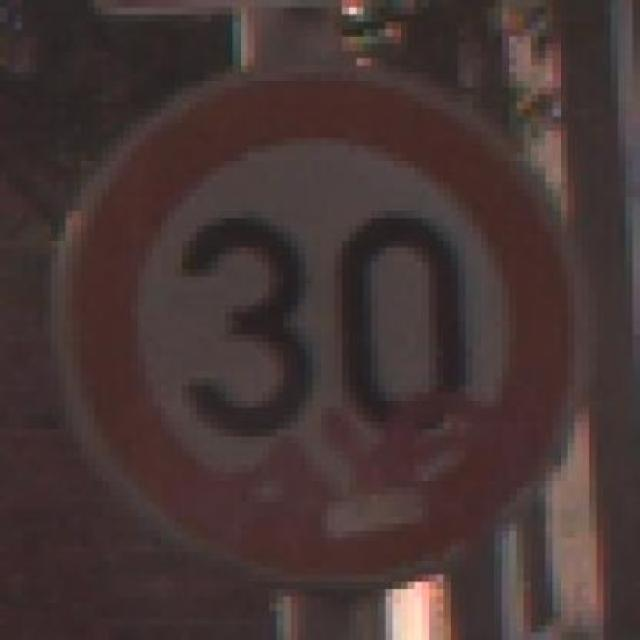Speed Limit 30 KMPh: (36, 58, 612, 604)
